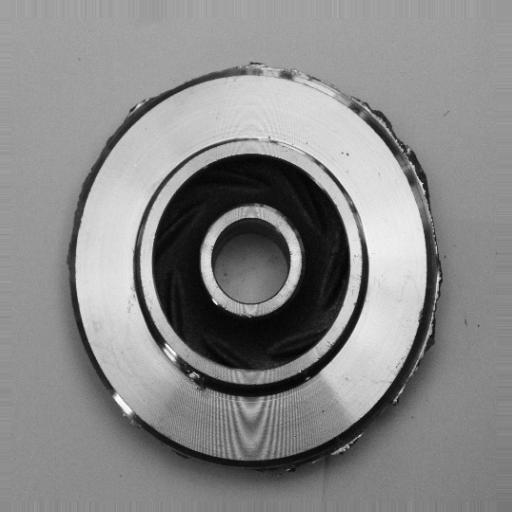casting_with_burr: (69, 61, 445, 480)
scratch: (154, 331, 221, 387), (243, 128, 328, 165), (108, 376, 148, 429)
